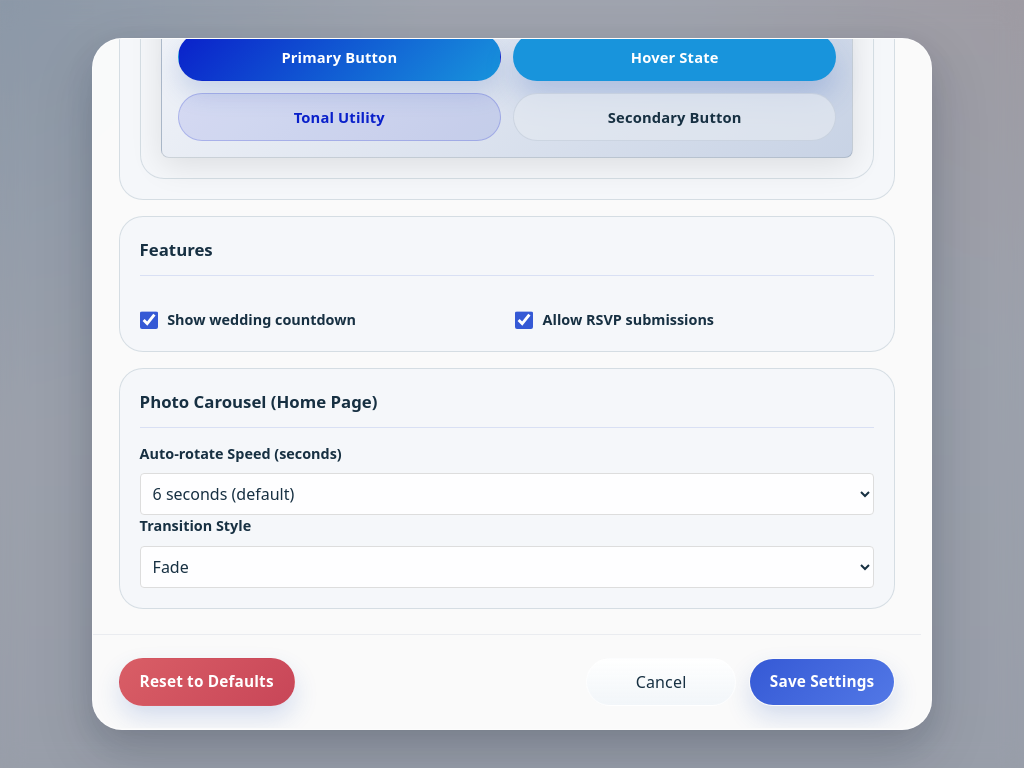
Test case: SettingsModal › shows error and keeps modal open when save fails
(page scrolled)
Click the button "Save Settings". click: (822, 682)
box: top-left (749, 658), bottom-right (895, 706)
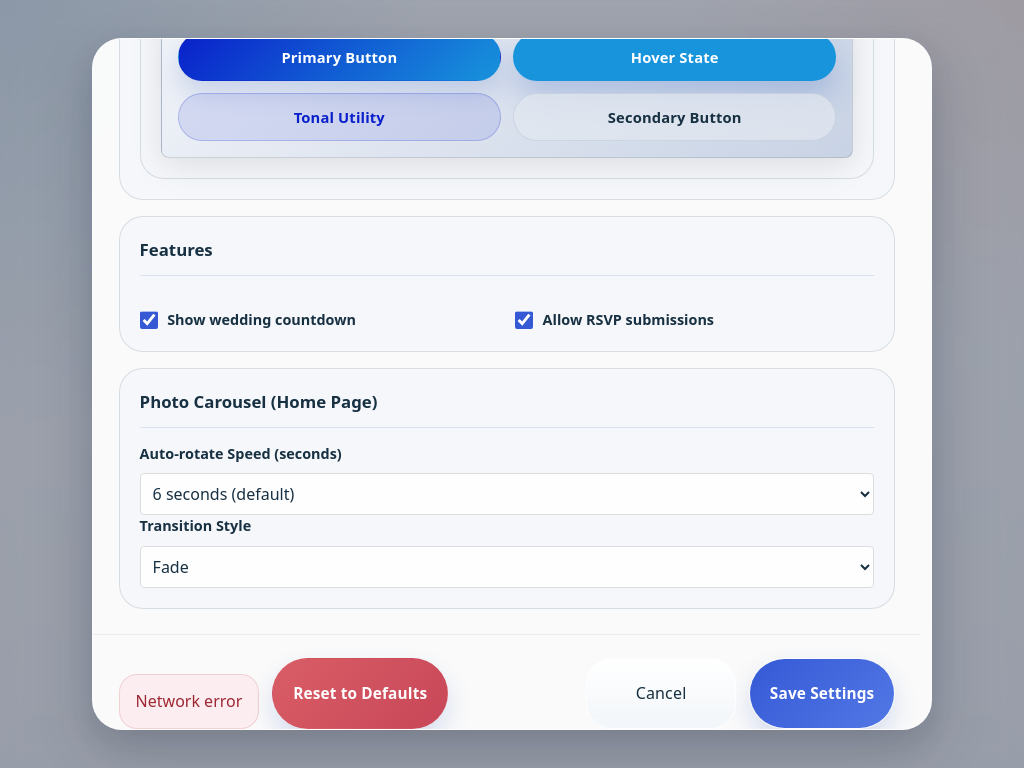
Expected: the text "Network error" is shown, top-left (119, 674), bottom-right (259, 728)
